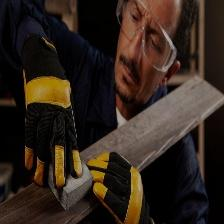Person: (1, 2, 213, 221)
